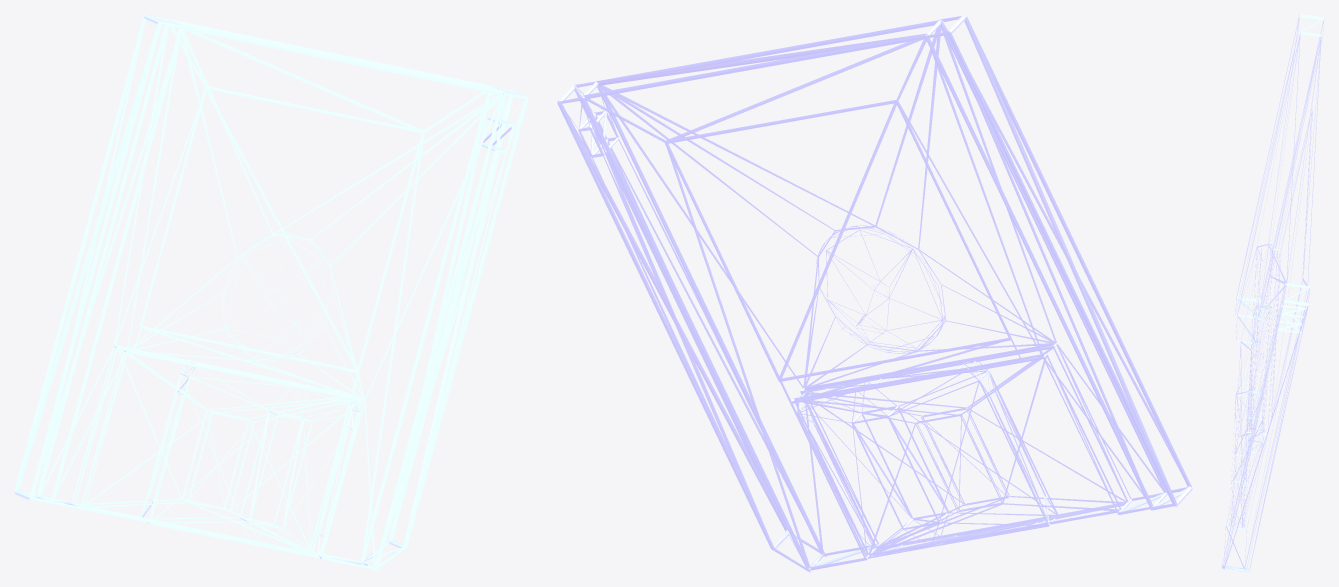
Rendered from discs.glb.
3 views of the same model, side by side, from view 1: azimuth 30°, elevation 25°; view 2: azimuth 150°, elevation 25°; view 3: azimuth 270°, elevation 25° (orthographic). The views are drawn at different scales.
Visible parts, largest first — view 1: scene; view 2: scene; view 3: scene.
Part boxes in pixels (x1,y1,x2,y2): scene: [14, 14, 528, 572]; scene: [557, 14, 1192, 572]; scene: [1221, 14, 1324, 572].
Bounding box in the file's own units: 2.37 × 2.42 × 0.4638.
